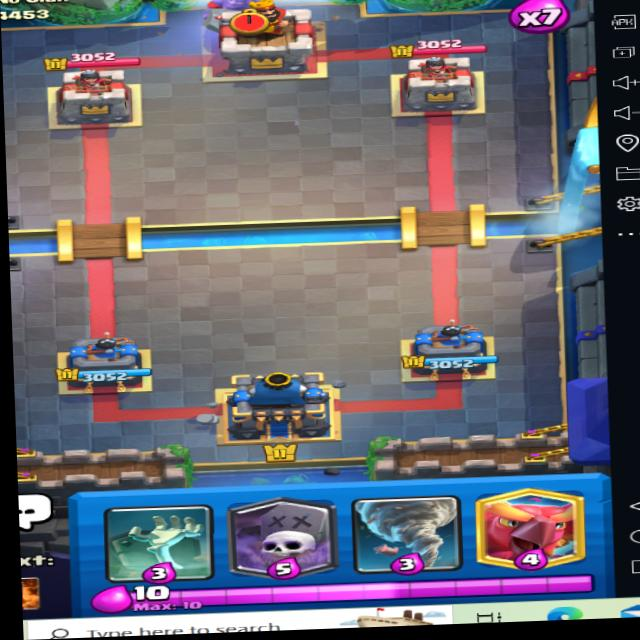Bowler: (195, 0, 267, 25)
